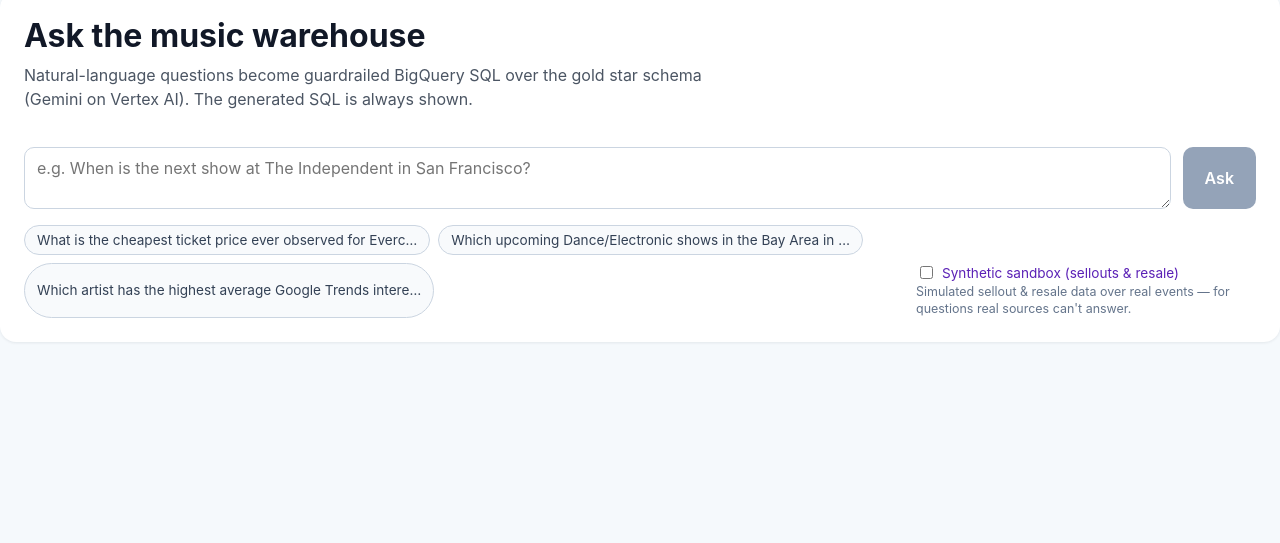
Scenario: AskPanel › submits an example question from its chip
Click the button "What is the cheapest ticket price ever observed for Everc…".
click(227, 240)  # box 24,225 -> 430,255
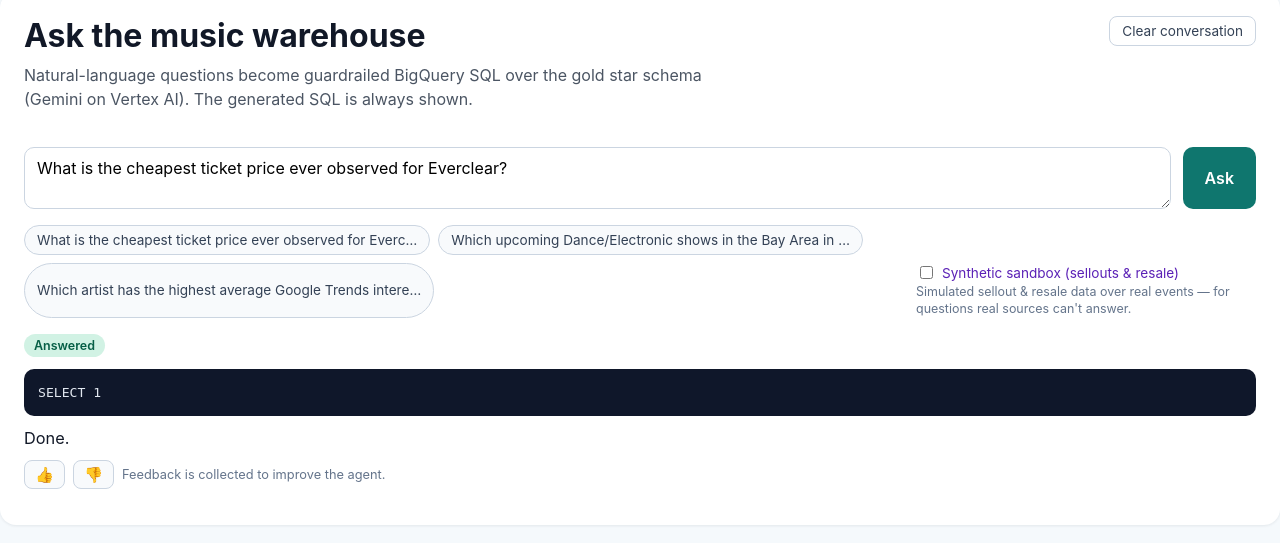
expect the text named "Generated SQL" reads "SELECT 1": met, box 38,385 -> 101,400
